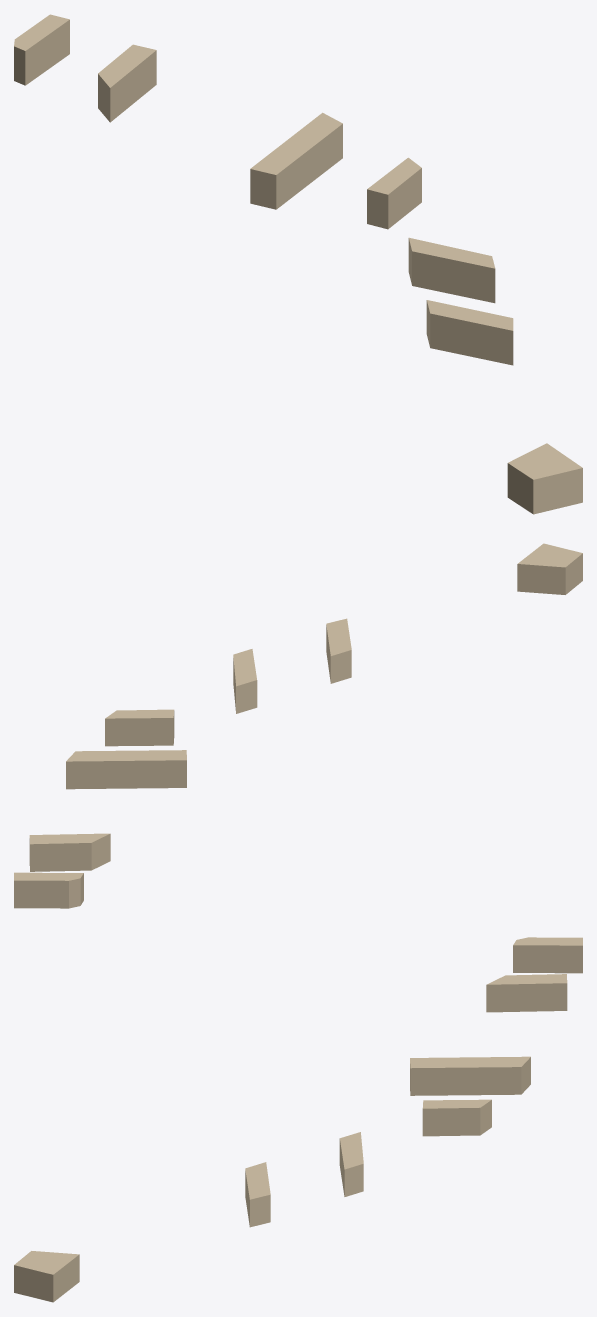
Rendered from -8_-5-estimated-coarse.glb.
The picture shows the model from 3 angles, top to bottom: view 1: azimuth 30°, elevation 25°; view 2: azimuth 150°, elevation 25°; view 3: azimuth 330°, elevation 25°; orthographic projection. The views are drawn at different scales.
Size of the model in its own units: 86.41 by 12 by 375.
